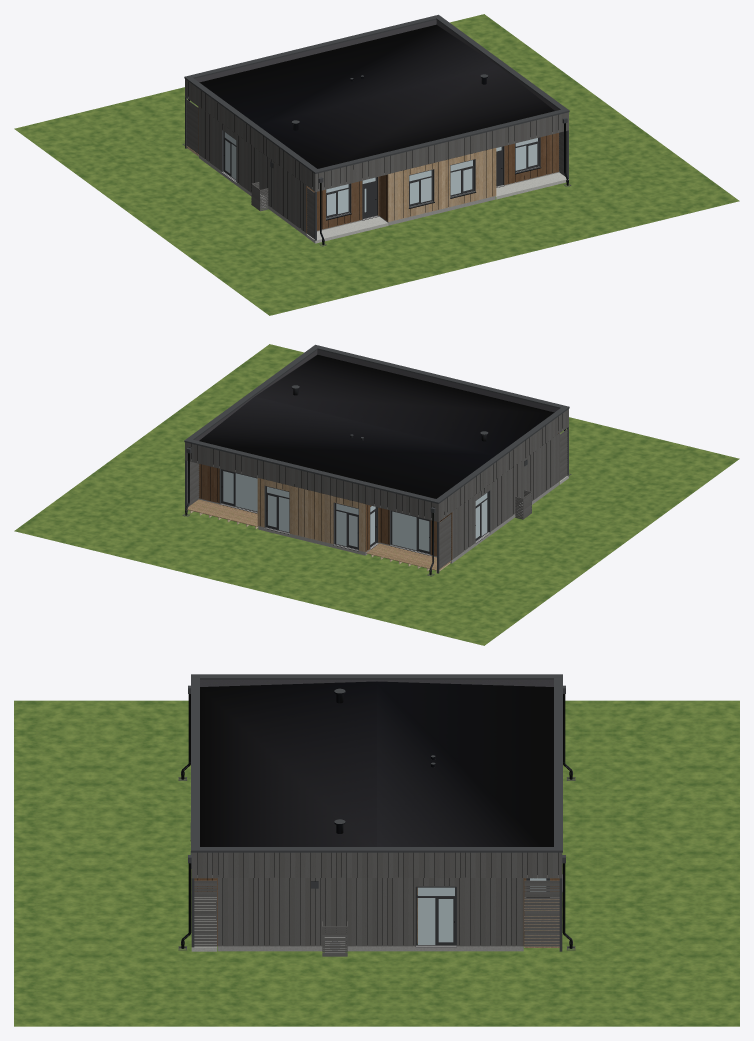
File: karjaari21a_maja.glb
3 renders of one model, top to bottom at view 1: azimuth 30°, elevation 25°; view 2: azimuth 150°, elevation 25°; view 3: azimuth 270°, elevation 25°, orthographic. The views are drawn at different scales.
Visible parts, largest first — view 1: muru|lm2, sbs|dark, laudis_tumehall|lm0, plekk|lm0, laudis_hele|lm0, klaas|glass, sbs|lm1, tuuletokkeplaat|dark, laudis_pruun|lm0, laudis_pruun|lm1, betoon_valis|lm0, plekk|lm1 (+4 smaller); view 2: muru|lm2, sbs|dark, laudis_tumehall|lm0, laudis_tumehall|lm1, klaas|glass, plekk|lm0, laudis_hele|lm1, tuuletokkeplaat|dark, sbs|lm1, plekk|lm1, pvc_antratsiit|lm0, sokliplaat|lm0 (+5 smaller); view 3: muru|lm2, sbs|dark, laudis_tumehall|lm1, plekk|lm0, tuuletokkeplaat|dark, klaas|glass, sokliplaat|lm1, sbs|lm0, plekk|lm1, sadevesi|vc, pvc_antratsiit|lm1, terrassilaud|lm1.
Part boxes in pixels (x1,y1,x2,y2): muru|lm2: [14, 14, 739, 315]; sbs|dark: [199, 24, 554, 168]; laudis_tumehall|lm0: [185, 79, 568, 238]; plekk|lm0: [184, 14, 569, 220]; laudis_hele|lm0: [388, 148, 496, 222]; klaas|glass: [225, 132, 537, 215]; sbs|lm1: [194, 19, 559, 110]; tuuletokkeplaat|dark: [188, 82, 558, 230]; laudis_pruun|lm0: [198, 106, 387, 233]; laudis_pruun|lm1: [504, 133, 559, 184]; betoon_valis|lm0: [306, 179, 568, 243]; plekk|lm1: [193, 18, 560, 198]; muru|lm2: [14, 344, 739, 645]; sbs|dark: [199, 354, 554, 498]; laudis_tumehall|lm0: [374, 409, 568, 568]; laudis_tumehall|lm1: [185, 442, 438, 521]; klaas|glass: [223, 471, 487, 551]; plekk|lm0: [184, 344, 569, 554]; laudis_hele|lm1: [257, 478, 365, 551]; tuuletokkeplaat|dark: [191, 414, 562, 554]; sbs|lm1: [194, 349, 559, 440]; plekk|lm1: [188, 348, 560, 550]; pvc_antratsiit|lm0: [335, 492, 488, 554]; sokliplaat|lm0: [258, 481, 559, 563]; muru|lm2: [14, 700, 739, 1026]; sbs|dark: [200, 681, 553, 846]; laudis_tumehall|lm1: [191, 852, 562, 956]; plekk|lm0: [190, 674, 562, 850]; tuuletokkeplaat|dark: [197, 853, 558, 945]; klaas|glass: [418, 878, 546, 944]; sokliplaat|lm1: [217, 897, 559, 951]; sbs|lm0: [200, 680, 553, 686]; plekk|lm1: [190, 762, 562, 946]; sadevesi|vc: [181, 694, 572, 948]; pvc_antratsiit|lm1: [416, 878, 549, 945]; terrassilaud|lm1: [525, 899, 559, 947].
Size of what is drawn, in the model's own units: 30.38 by 6.84 by 28.6.
99 materials, 32 textured.
